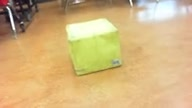cube: (65, 17, 123, 76)
